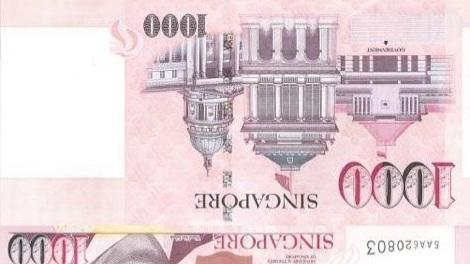1000SingaporeDollar: (0, 0, 470, 226)
